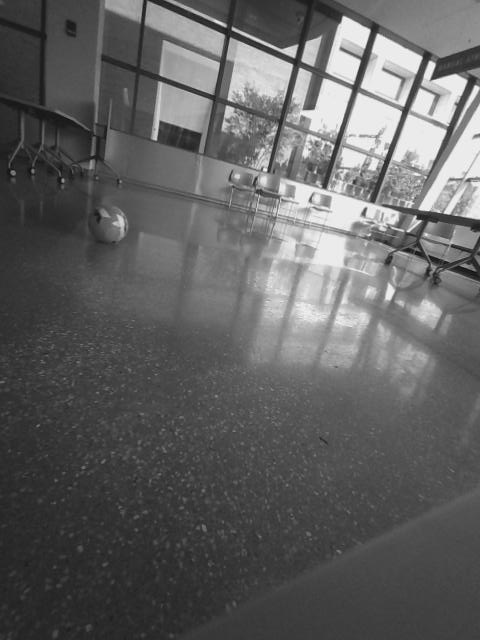ball: (84, 199, 132, 247)
